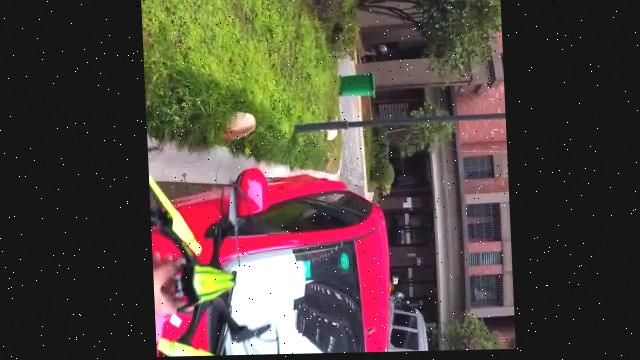drone: (147, 163, 274, 358)
